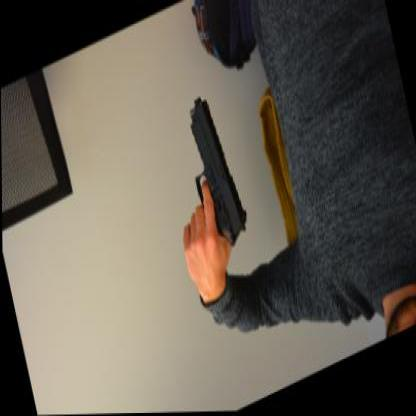pistol: (178, 86, 252, 258)
